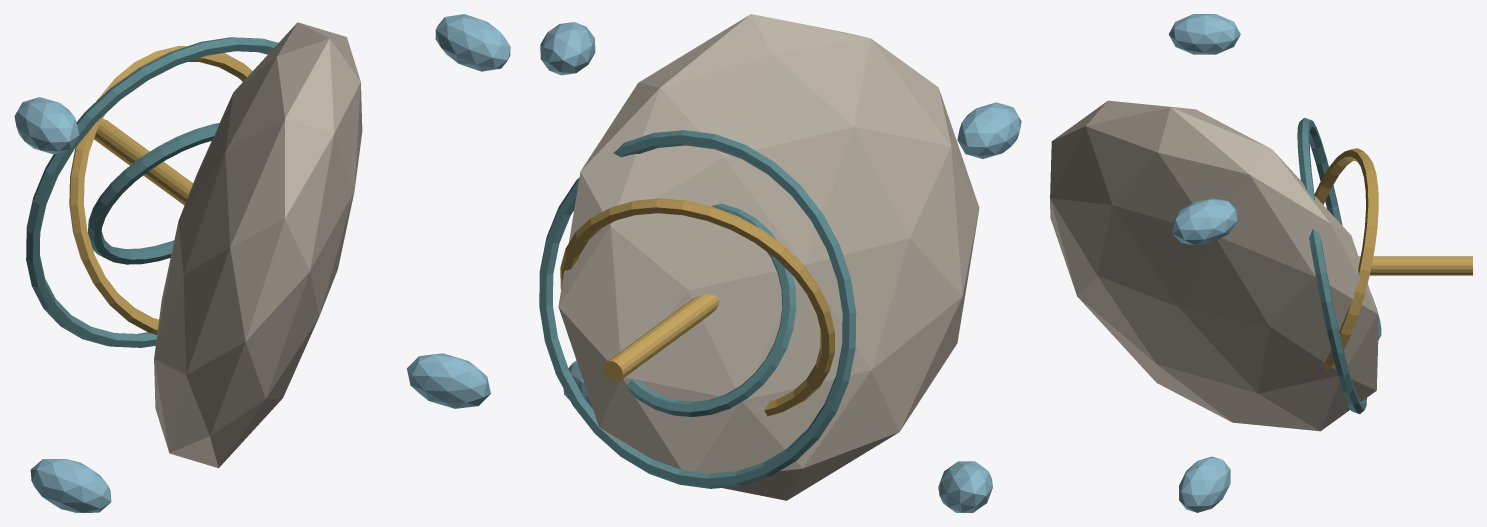
Rendered from region-stardust-landmark.glb.
The picture shows the model from 3 angles, left to right: view 1: azimuth 30°, elevation 25°; view 2: azimuth 150°, elevation 25°; view 3: azimuth 270°, elevation 25°; orthographic projection. The views are drawn at different scales.
Visible parts, largest first — view 1: weathered observatory plinth, offset astronomical arm, offset astronomical arm.001, offset astronomical arm.002, mineral seam.003, mineral seam.002, mineral seam.001, mineral seam, observatory polar axle; view 2: weathered observatory plinth, offset astronomical arm, offset astronomical arm.001, offset astronomical arm.002, observatory polar axle, mineral seam, mineral seam.001, mineral seam.002; view 3: weathered observatory plinth, offset astronomical arm, offset astronomical arm.001, mineral seam.001, mineral seam, mineral seam.003, observatory polar axle.
Boxes of the visible parts, <box> form: weathered observatory plinth: <box>154,22,362,468</box>; offset astronomical arm: <box>26,37,278,347</box>; offset astronomical arm.001: <box>69,46,252,334</box>; offset astronomical arm.002: <box>88,123,219,264</box>; mineral seam.003: <box>407,353,490,408</box>; mineral seam.002: <box>30,459,111,512</box>; mineral seam.001: <box>435,14,510,71</box>; mineral seam: <box>14,97,79,154</box>; observatory polar axle: <box>94,119,192,205</box>; weathered observatory plinth: <box>558,14,979,500</box>; offset astronomical arm: <box>539,130,856,488</box>; offset astronomical arm.001: <box>560,198,834,416</box>; offset astronomical arm.002: <box>626,203,796,416</box>; observatory polar axle: <box>603,294,718,382</box>; mineral seam: <box>957,102,1021,158</box>; mineral seam.001: <box>540,22,595,75</box>; mineral seam.002: <box>938,461,992,512</box>; weathered observatory plinth: <box>1050,100,1378,431</box>; offset astronomical arm: <box>1297,117,1366,414</box>; offset astronomical arm.001: <box>1314,148,1378,370</box>; mineral seam.001: <box>1172,198,1237,245</box>; mineral seam: <box>1168,14,1240,54</box>; mineral seam.003: <box>1179,456,1230,512</box>; observatory polar axle: <box>1358,256,1472,275</box>.
Bounding box in the file's own units: 11.84 × 10.24 × 11.12.
